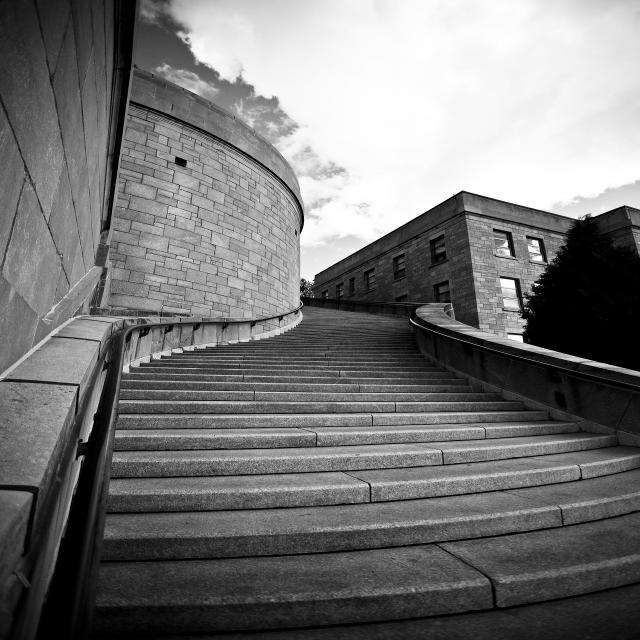Stairs: (72, 332, 640, 640)
